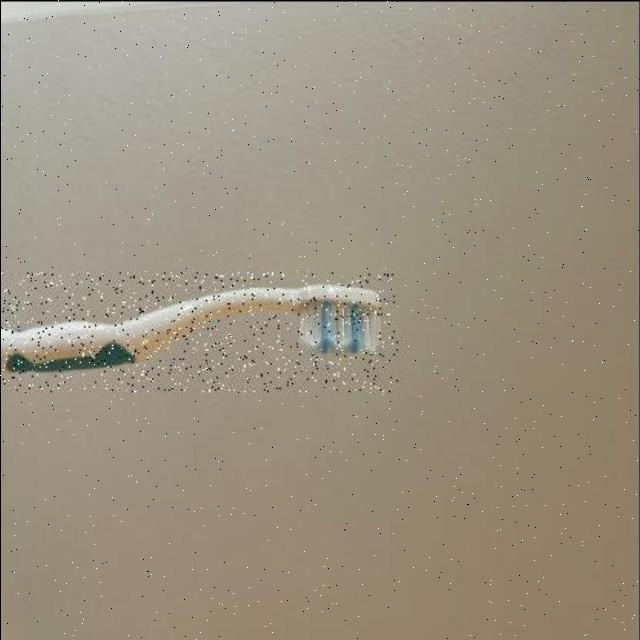toothbrush: (0, 271, 398, 391)
